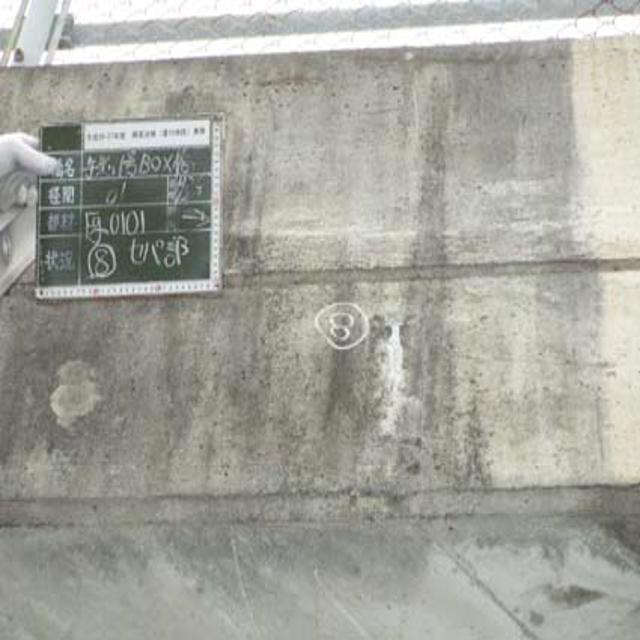freelime: (366, 312, 411, 432)
